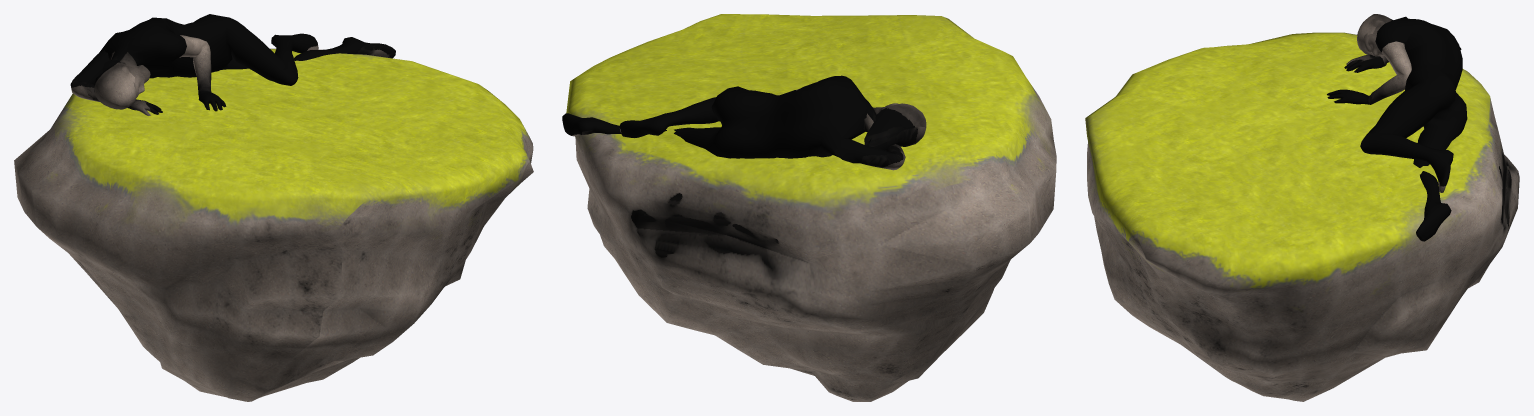
File: God_Island_01.fbx
3 views of the same model, side by side, from view 1: azimuth 30°, elevation 25°; view 2: azimuth 150°, elevation 25°; view 3: azimuth 270°, elevation 25° (orthographic). The views are drawn at different scales.
Parts seen in each view (by area): view 1: humanBody1; view 2: humanBody1; view 3: humanBody1.
Part boxes in pixels (x1,y1,x2,y2): humanBody1: [14, 14, 533, 401]; humanBody1: [562, 14, 1056, 401]; humanBody1: [1085, 14, 1519, 401].
Size of the model in its own units: 143 by 104 by 119.
Materials: 1 (1 with a texture image).
